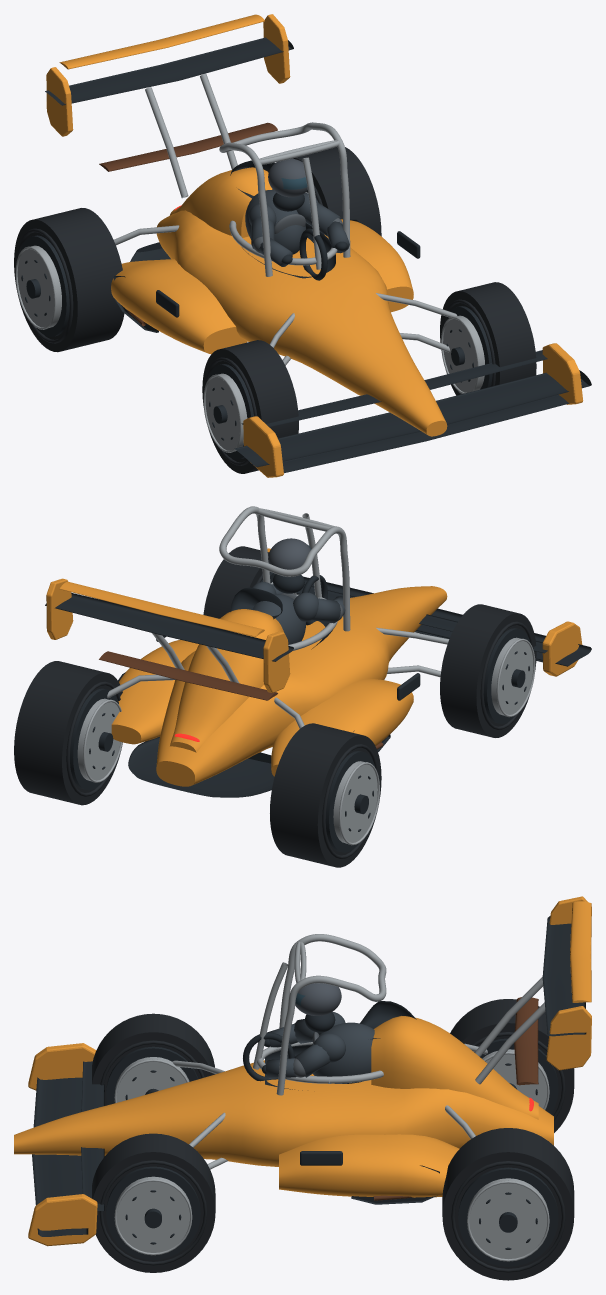
Rendered from car_emberline_gp.glb.
3 renders of one model, top to bottom at view 1: azimuth 30°, elevation 25°; view 2: azimuth 150°, elevation 25°; view 3: azimuth 270°, elevation 25°, orthographic. The views are drawn at different scales.
Parts seen in each view (by area): view 1: Blender Vehicle - Emberline Grand Prix.016 - Vehicle Body, WheelMesh_F1Rear_car_emberline_gp_-1.016, WheelMesh_F1Front_car_emberline_gp_-1.016, WheelMesh_F1Front_car_emberline_gp_1.016, WheelMesh_F1Rear_car_emberline_gp_1.016, Halo_Main_car_emberline_gp.010, RearWing_Pylon_car_emberline_gp_-1.010, Halo_CenterPillar_car_emberline_gp.010, RearWing_Pylon_car_emberline_gp_1.010, Halo_Crossbar_car_emberline_gp.010, CockpitRim_car_emberline_gp.010; view 2: Blender Vehicle - Emberline Grand Prix.016 - Vehicle Body, WheelMesh_F1Rear_car_emberline_gp_-1.016, WheelMesh_F1Rear_car_emberline_gp_1.016, WheelMesh_F1Front_car_emberline_gp_-1.016, Halo_Main_car_emberline_gp.010, WheelMesh_F1Front_car_emberline_gp_1.016, Halo_Crossbar_car_emberline_gp.010; view 3: Blender Vehicle - Emberline Grand Prix.016 - Vehicle Body, WheelMesh_F1Rear_car_emberline_gp_1.016, WheelMesh_F1Front_car_emberline_gp_1.016, WheelMesh_F1Front_car_emberline_gp_-1.016, WheelMesh_F1Rear_car_emberline_gp_-1.016, Halo_Main_car_emberline_gp.010, CockpitRim_car_emberline_gp.010, RearWing_Pylon_car_emberline_gp_1.010, RearWing_Pylon_car_emberline_gp_-1.010, Halo_CenterPillar_car_emberline_gp.010.
Boxes of the visible parts, x1,y1,x2,y2 form: Blender Vehicle - Emberline Grand Prix.016 - Vehicle Body: [45, 14, 591, 477]; WheelMesh_F1Rear_car_emberline_gp_-1.016: [14, 208, 124, 352]; WheelMesh_F1Front_car_emberline_gp_-1.016: [202, 340, 298, 473]; WheelMesh_F1Front_car_emberline_gp_1.016: [440, 282, 536, 395]; WheelMesh_F1Rear_car_emberline_gp_1.016: [293, 147, 381, 236]; Halo_Main_car_emberline_gp.010: [219, 122, 350, 276]; RearWing_Pylon_car_emberline_gp_-1.010: [145, 87, 188, 198]; Halo_CenterPillar_car_emberline_gp.010: [302, 157, 321, 269]; RearWing_Pylon_car_emberline_gp_1.010: [200, 73, 237, 169]; Halo_Crossbar_car_emberline_gp.010: [259, 140, 339, 164]; CockpitRim_car_emberline_gp.010: [229, 220, 337, 265]; Blender Vehicle - Emberline Grand Prix.016 - Vehicle Body: [45, 538, 591, 797]; WheelMesh_F1Rear_car_emberline_gp_-1.016: [270, 723, 381, 867]; WheelMesh_F1Rear_car_emberline_gp_1.016: [14, 661, 122, 805]; WheelMesh_F1Front_car_emberline_gp_-1.016: [440, 604, 536, 737]; Halo_Main_car_emberline_gp.010: [219, 506, 350, 631]; WheelMesh_F1Front_car_emberline_gp_1.016: [203, 546, 298, 618]; Halo_Crossbar_car_emberline_gp.010: [257, 508, 334, 531]; Blender Vehicle - Emberline Grand Prix.016 - Vehicle Body: [14, 896, 591, 1246]; WheelMesh_F1Rear_car_emberline_gp_1.016: [442, 1128, 574, 1280]; WheelMesh_F1Front_car_emberline_gp_1.016: [92, 1133, 215, 1272]; WheelMesh_F1Front_car_emberline_gp_-1.016: [92, 1013, 215, 1105]; WheelMesh_F1Rear_car_emberline_gp_-1.016: [450, 999, 574, 1132]; Halo_Main_car_emberline_gp.010: [276, 934, 386, 1095]; CockpitRim_car_emberline_gp.010: [257, 1042, 383, 1083]; RearWing_Pylon_car_emberline_gp_1.010: [475, 1002, 545, 1084]; RearWing_Pylon_car_emberline_gp_-1.010: [475, 977, 543, 1056]; Halo_CenterPillar_car_emberline_gp.010: [253, 962, 288, 1069].
Bounding box in the file's own units: 2.92 × 2.05 × 4.24.
